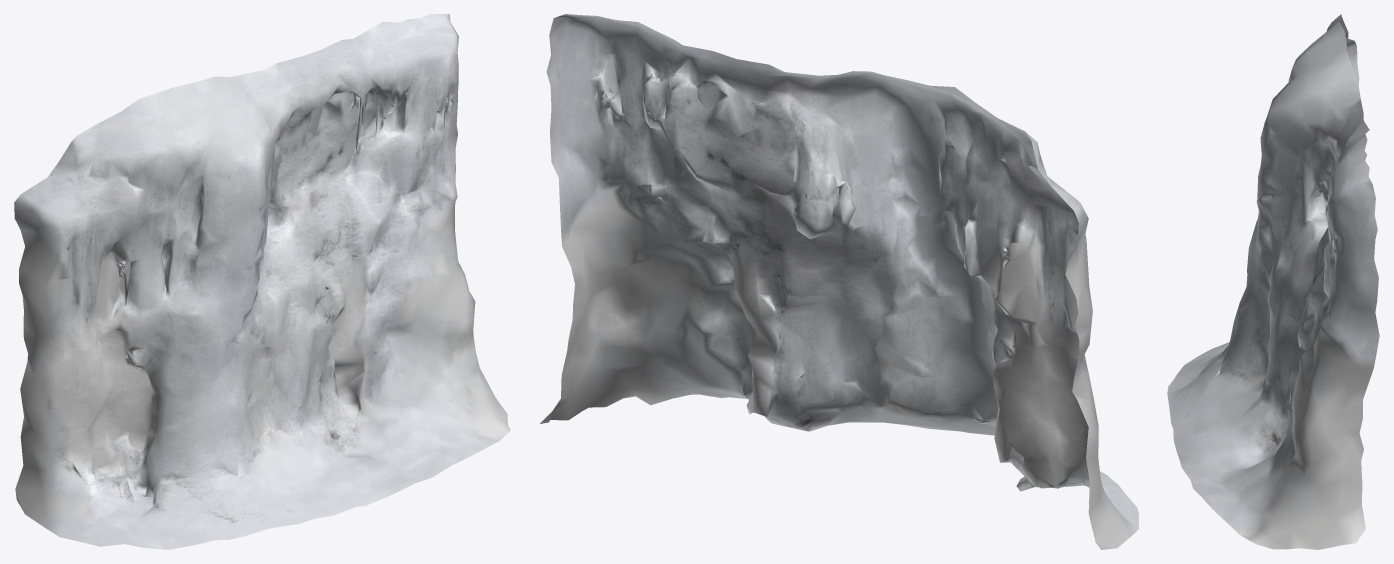
Rendered from Ice_Cliff_1.obj.
The picture shows the model from 3 angles, left to right: view 1: azimuth 30°, elevation 25°; view 2: azimuth 150°, elevation 25°; view 3: azimuth 270°, elevation 25°; orthographic projection. The views are drawn at different scales.
Visible parts, largest first — view 1: veipbcmcb_LOD0_TIER3_000; view 2: veipbcmcb_LOD0_TIER3_000; view 3: veipbcmcb_LOD0_TIER3_000.
Boxes of the visible parts, x1,y1,x2,y2 form: veipbcmcb_LOD0_TIER3_000: [14, 14, 510, 549]; veipbcmcb_LOD0_TIER3_000: [540, 14, 1138, 549]; veipbcmcb_LOD0_TIER3_000: [1167, 14, 1379, 549].
Bounding box in the file's own units: 6.8 × 5.25 × 2.7.
1 material, 1 textured.
